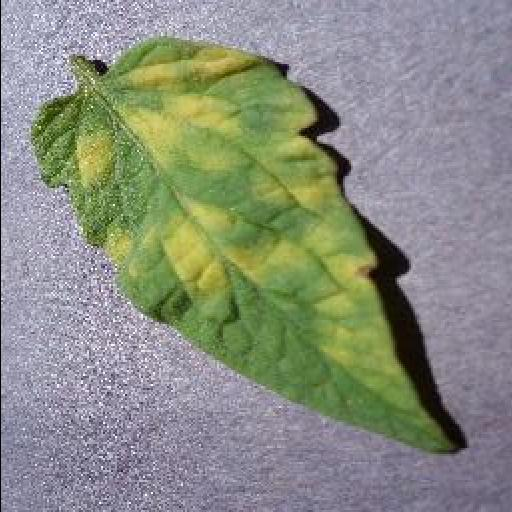disease_tomato: (34, 38, 454, 455)
